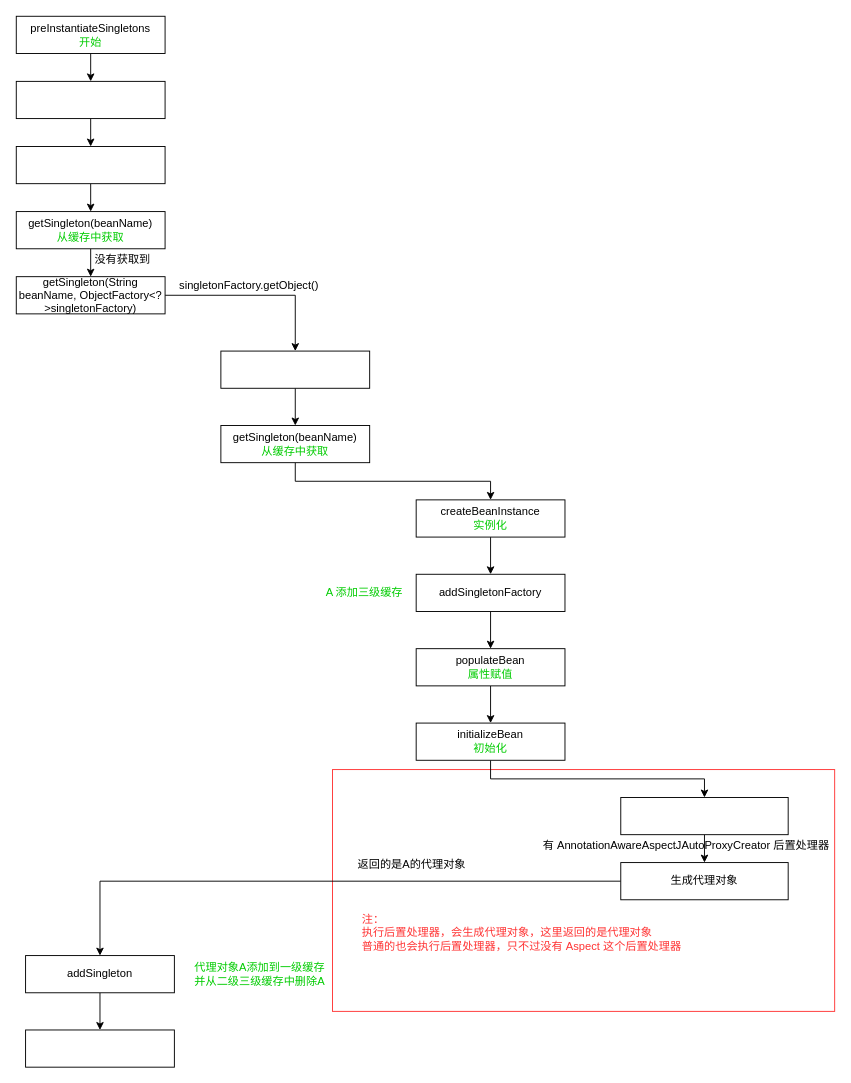
This 851x1083 diagram has some shape labels left out. The shapes that lost their labels are listed below. From the top down, each one's box as (x1, y1, x2, y2) in pixels, then its label:
(15, 80, 165, 119): getBean A
(15, 146, 165, 184): doGetBean
(220, 350, 370, 388): createBean 创建Bean
(620, 797, 788, 835): 初始化以及遍历执行后置处理器
(25, 1029, 174, 1067): end
